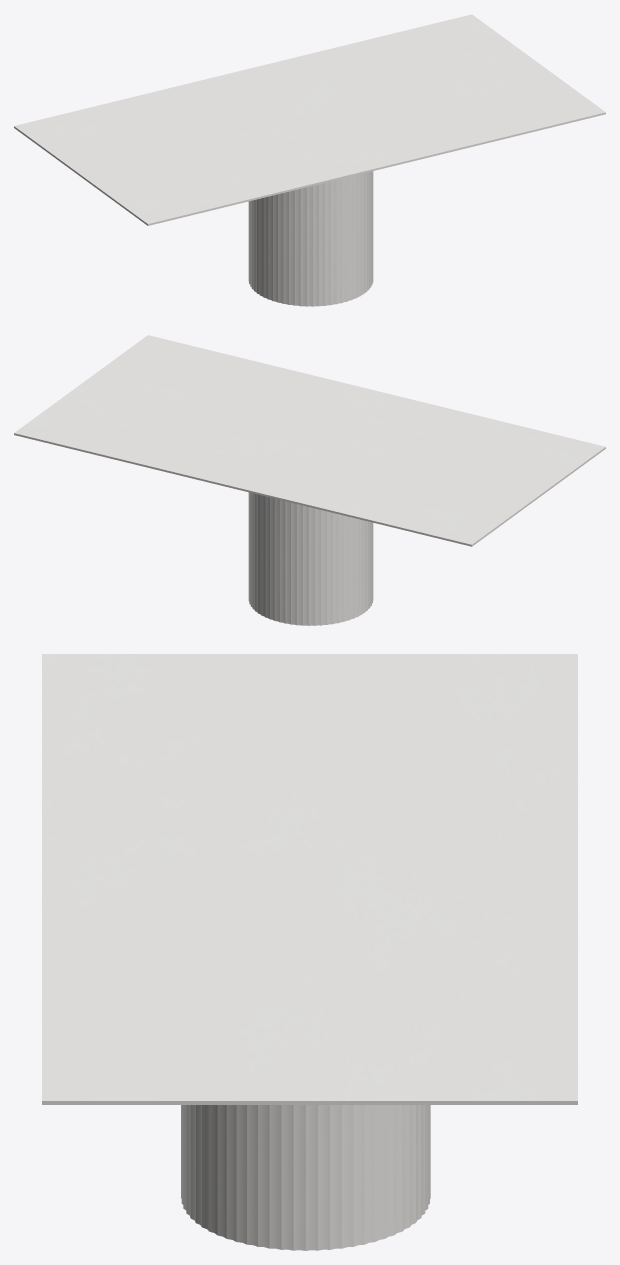
File: purewhite_recta_facet_ripple.glb
The picture shows the model from 3 angles, top to bottom: view 1: azimuth 30°, elevation 25°; view 2: azimuth 150°, elevation 25°; view 3: azimuth 270°, elevation 25°; orthographic projection. The views are drawn at different scales.
Visible parts, largest first — view 1: facet_recta, ripple; view 2: facet_recta, ripple; view 3: facet_recta, ripple.
Part boxes in pixels (left/top/right/bottom): facet_recta: left=14, top=14, right=605, bottom=225; ripple: left=248, top=171, right=373, bottom=306; facet_recta: left=14, top=335, right=605, bottom=546; ripple: left=248, top=492, right=373, bottom=625; facet_recta: left=42, top=654, right=577, bottom=1104; ripple: left=181, top=1105, right=430, bottom=1250.
Size of the model in its own units: 7.5 by 2.51 by 3.8.
1 material, 1 textured.
